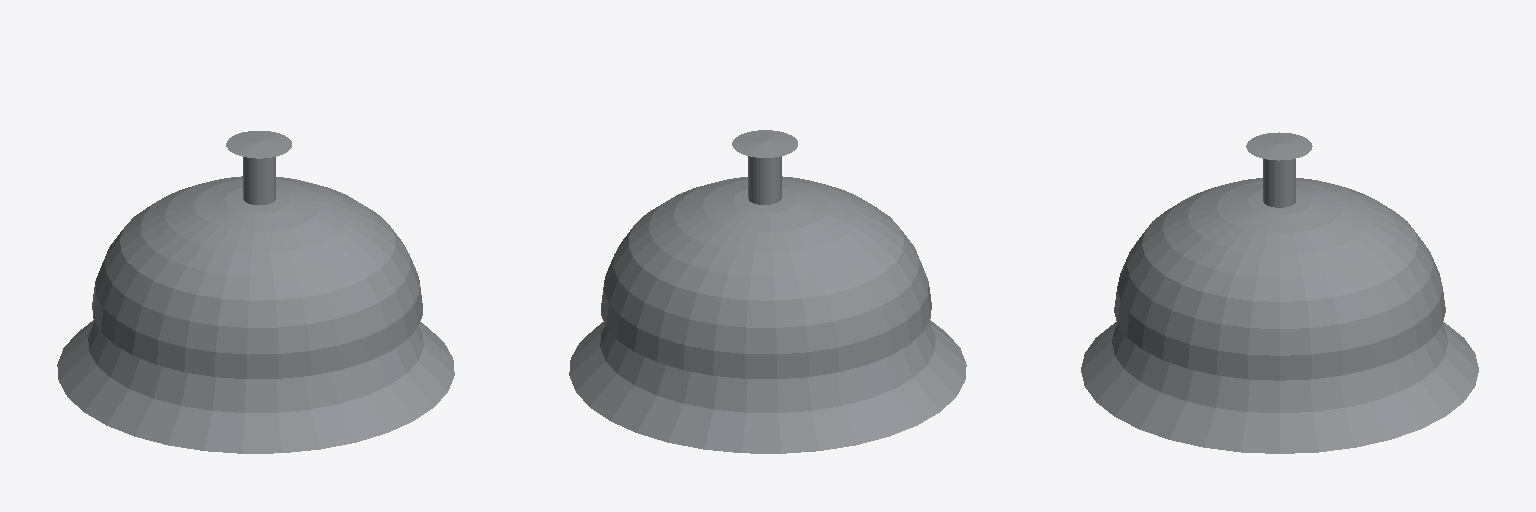
The model's file is bell.obj.
The picture shows the model from 3 angles: view 1: azimuth 30°, elevation 25°; view 2: azimuth 150°, elevation 25°; view 3: azimuth 270°, elevation 25°; orthographic projection.
Visible parts, largest first — view 1: Cylinder, Sphere.001, Sphere.002, Cylinder.001, Cone_Cone.001; view 2: Cylinder, Sphere.001, Sphere.002, Cylinder.001, Cone_Cone.001; view 3: Cylinder, Sphere.001, Sphere.002, Cylinder.001, Cone_Cone.001.
Boxes of the visible parts, <box> form: Cylinder: <box>57,320,454,453</box>; Sphere.001: <box>92,225,422,378</box>; Sphere.002: <box>120,176,394,300</box>; Cylinder.001: <box>243,157,275,204</box>; Cone_Cone.001: <box>226,131,291,158</box>; Cylinder: <box>569,320,966,453</box>; Sphere.001: <box>601,225,931,378</box>; Sphere.002: <box>629,176,903,300</box>; Cylinder.001: <box>748,156,781,204</box>; Cone_Cone.001: <box>732,130,797,157</box>; Cylinder: <box>1081,322,1478,453</box>; Sphere.001: <box>1114,225,1445,380</box>; Sphere.002: <box>1142,178,1417,301</box>; Cylinder.001: <box>1263,159,1295,207</box>; Cone_Cone.001: <box>1246,132,1312,160</box>.
Bounding box in the file's own units: 2.4 × 1.51 × 2.4.